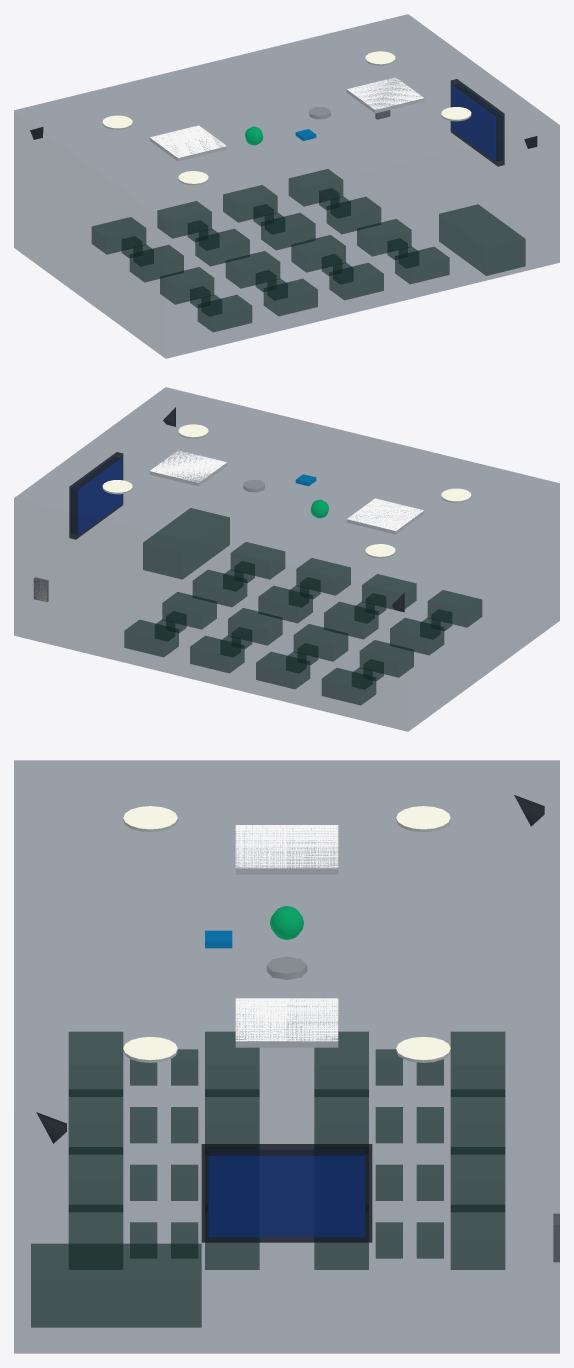
3 renders of one model, top to bottom at view 1: azimuth 30°, elevation 25°; view 2: azimuth 150°, elevation 25°; view 3: azimuth 270°, elevation 25°, orthographic. The views are drawn at different scales.
Parts seen in each view (by area): view 1: Arch:WALL_L5-B2, object 41, object 34, object 35, Device:AC1_L5-B2, Device:AC2_L5-B2, object 24, object 32, object 8, object 16, object 20, object 12 (+10 smaller); view 2: Arch:WALL_L5-B2, object 41, object 34, object 35, Device:AC1_L5-B2, Device:AC2_L5-B2, object 18, object 26, object 2, object 10, object 22, object 14 (+10 smaller); view 3: Arch:WALL_L5-B2, object 34, object 41, object 35, Device:AC1_L5-B2, Device:AC2_L5-B2, object 26, object 2, object 8, object 10, object 16, object 18 (+26 smaller).
Boxes of the visible parts, x1,y1,x2,y2 form: Arch:WALL_L5-B2: (14, 14, 559, 358); object 41: (439, 204, 525, 275); object 34: (450, 79, 504, 166); object 35: (452, 85, 495, 161); Device:AC1_L5-B2: (149, 125, 227, 161); Device:AC2_L5-B2: (346, 77, 424, 113); object 24: (329, 263, 383, 299); object 32: (395, 247, 449, 283); object 8: (198, 295, 251, 332); object 16: (264, 279, 317, 315); object 20: (261, 213, 315, 250); object 12: (195, 229, 249, 266); Arch:WALL_L5-B2: (14, 387, 559, 731); object 41: (143, 508, 229, 579); object 34: (69, 452, 123, 539); object 35: (78, 458, 121, 534); Device:AC1_L5-B2: (346, 498, 424, 534); Device:AC2_L5-B2: (149, 450, 227, 486); object 18: (190, 636, 244, 672); object 26: (124, 620, 178, 656); object 2: (322, 668, 375, 705); object 10: (256, 652, 309, 688); object 22: (258, 586, 312, 623); object 14: (324, 602, 378, 639); Arch:WALL_L5-B2: (14, 760, 559, 1353); object 34: (201, 1144, 372, 1242); object 41: (31, 1244, 201, 1327); object 35: (209, 1156, 364, 1236); Device:AC1_L5-B2: (235, 825, 338, 874); Device:AC2_L5-B2: (235, 998, 338, 1047); object 26: (451, 1205, 504, 1269); object 2: (451, 1032, 504, 1089); object 8: (69, 1032, 122, 1089); object 10: (451, 1089, 504, 1146); object 16: (69, 1089, 122, 1146); object 18: (451, 1147, 504, 1204).
Size of the model in its own units: 12 by 4.01 by 8.
